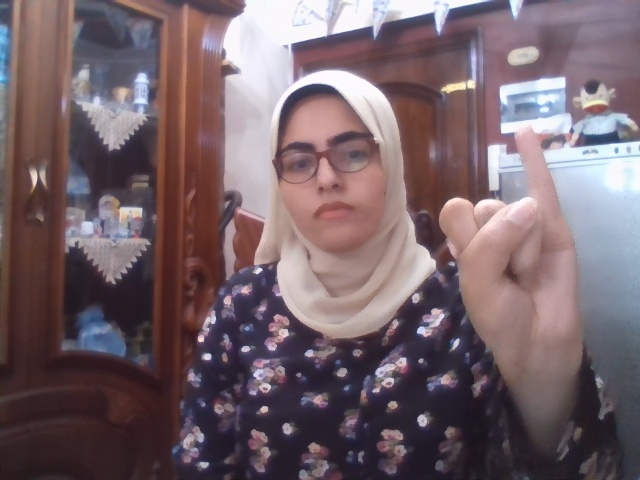I: (438, 125, 580, 358)
